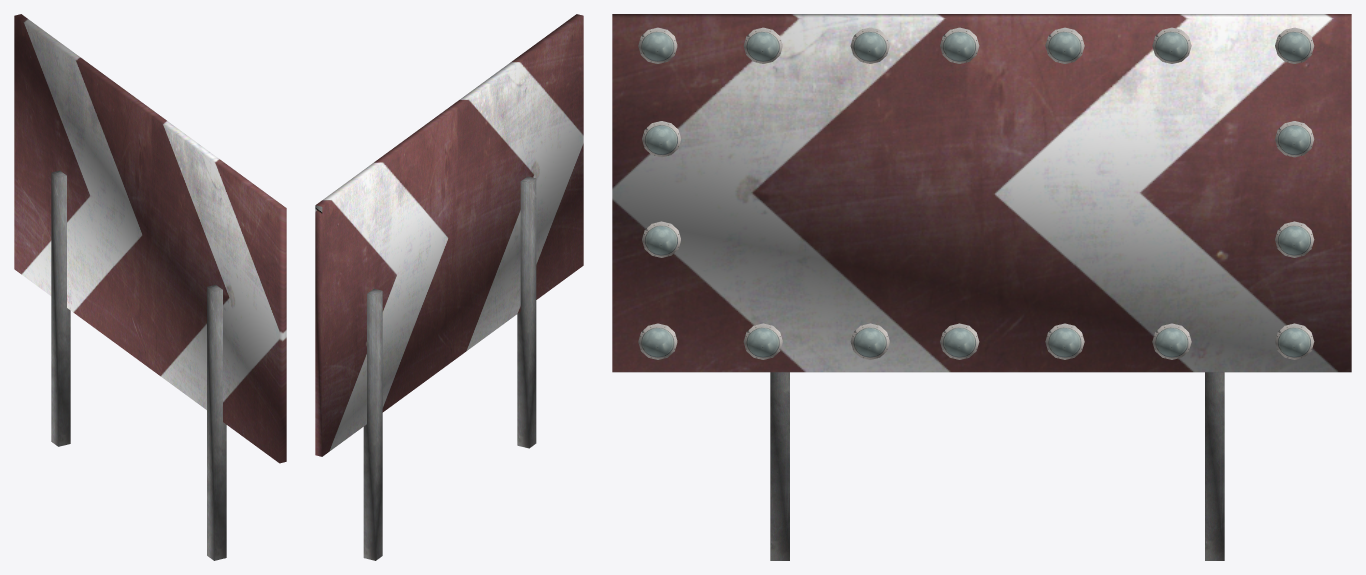
Rendered from lighting_sign_narrow_tall_left_small.fbx.
The picture shows the model from 3 angles, left to right: view 1: azimuth 30°, elevation 25°; view 2: azimuth 150°, elevation 25°; view 3: azimuth 270°, elevation 25°; orthographic projection. The views are drawn at different scales.
Parts seen in each view (by area): view 1: sign_narrow; view 2: sign_narrow; view 3: sign_narrow, lights.
Part boxes in pixels (x1,y1,x2,y2): sign_narrow: (14, 14, 286, 560); sign_narrow: (315, 14, 583, 560); sign_narrow: (612, 14, 1351, 560); lights: (638, 27, 1314, 359).
Size of the model in its own units: 1.22 by 26 by 32.
